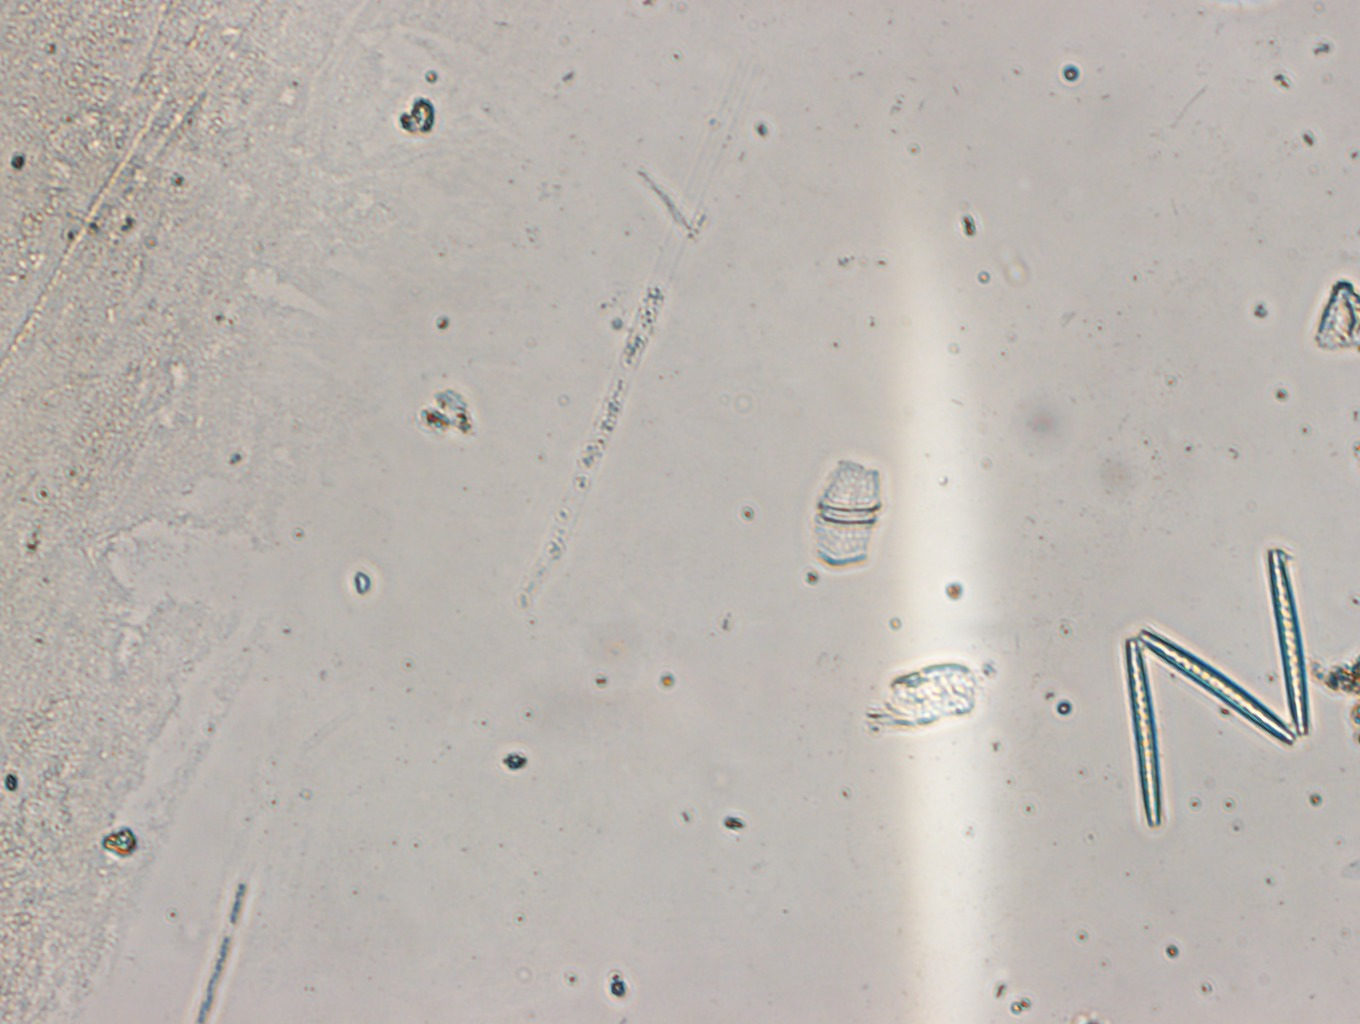thalassionema nitzschioides: (1111, 544, 1319, 833)
